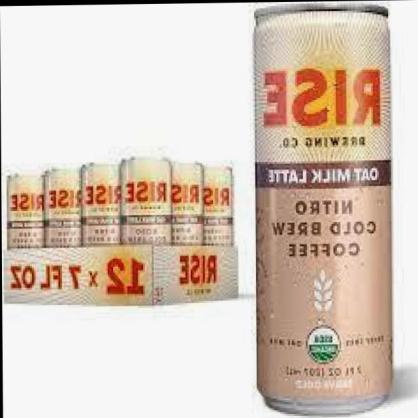can: (252, 4, 400, 415)
